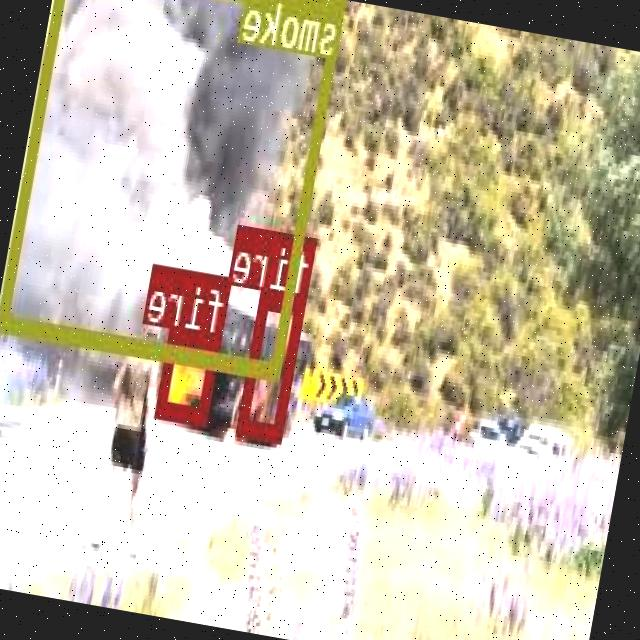fire: (238, 288, 308, 438), (158, 328, 222, 422)
smoke: (0, 0, 346, 379)
